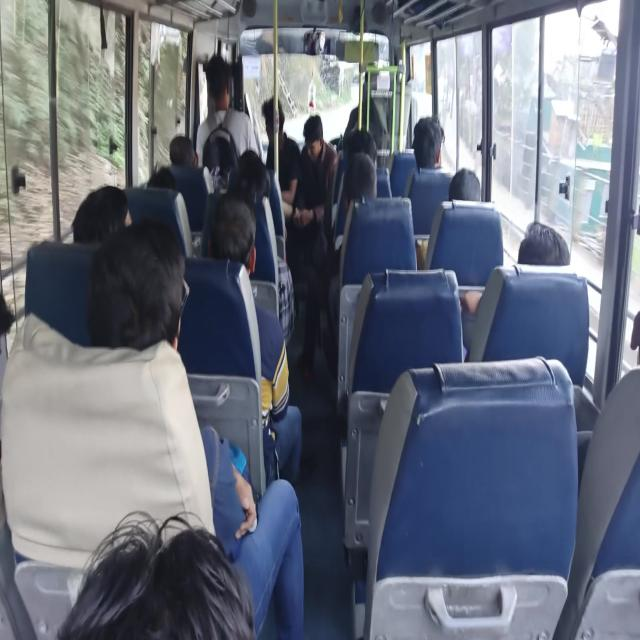person: (82, 520, 216, 640), (86, 228, 196, 366), (210, 202, 271, 311), (604, 279, 640, 402), (66, 193, 134, 256), (0, 284, 34, 385), (522, 195, 564, 274), (350, 158, 395, 223), (444, 159, 484, 216), (206, 52, 239, 119), (246, 96, 294, 142), (415, 119, 451, 174), (296, 112, 329, 170), (240, 160, 262, 207), (144, 170, 176, 202), (230, 153, 263, 176), (352, 133, 378, 161), (166, 134, 189, 160)
